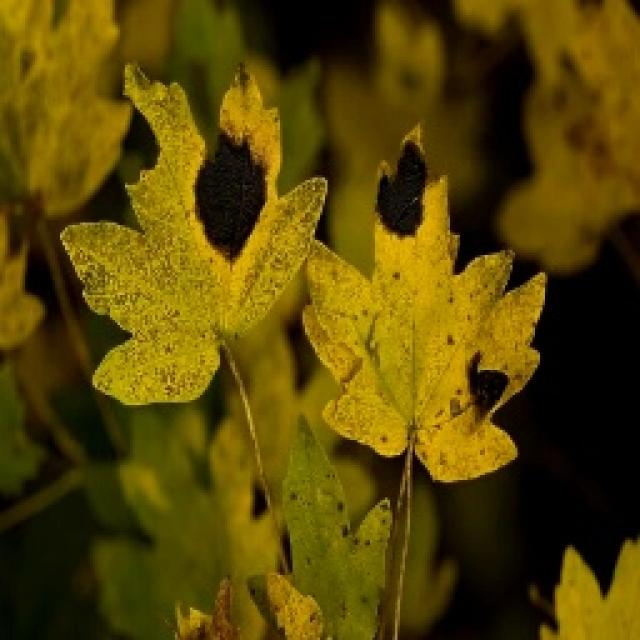Tar_Spot: (58, 58, 328, 408), (298, 125, 548, 485), (530, 532, 638, 638)
